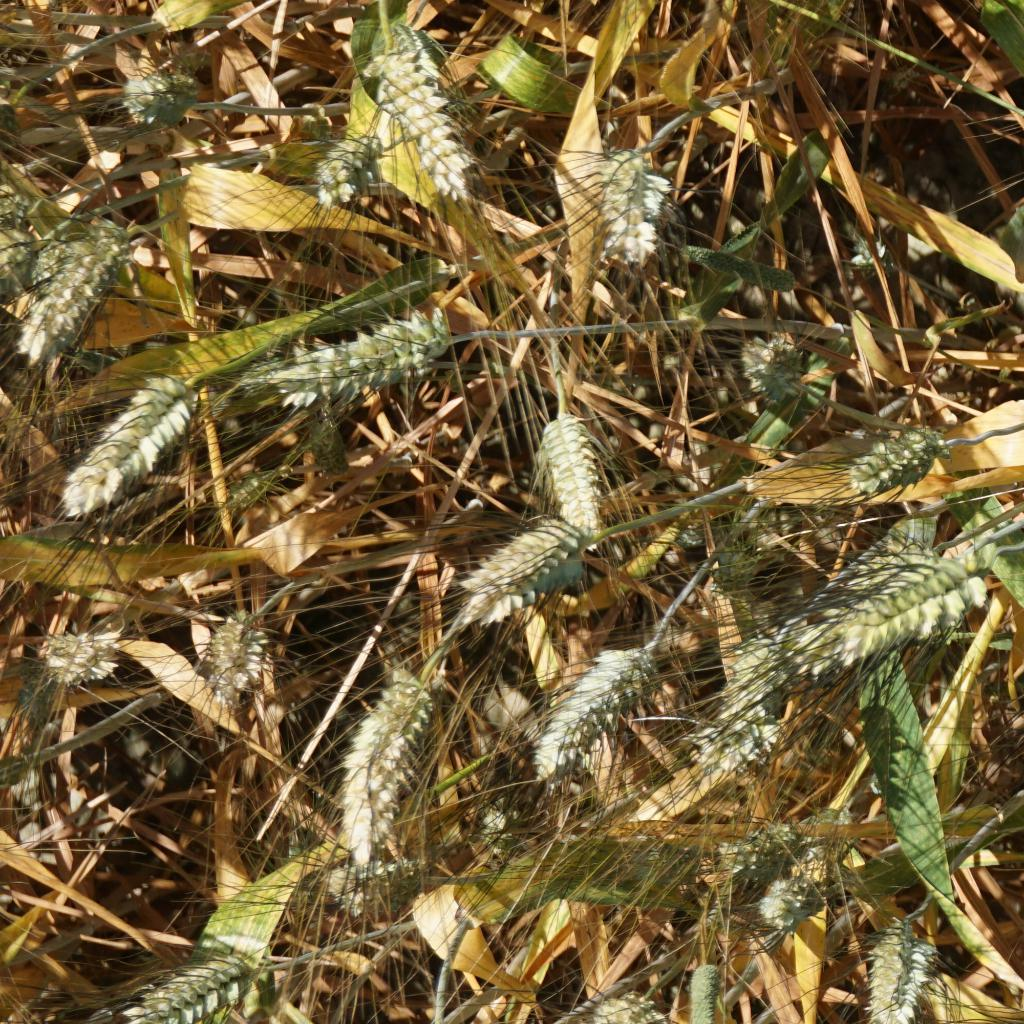0-0: (368, 17, 479, 205), (61, 366, 195, 514), (529, 636, 657, 786), (321, 673, 434, 837), (822, 550, 979, 665), (264, 316, 457, 392), (470, 523, 589, 627), (116, 946, 270, 1024), (704, 635, 798, 750), (532, 407, 605, 528), (38, 236, 104, 361), (592, 154, 672, 256), (849, 421, 963, 492), (468, 750, 541, 860), (858, 927, 934, 1021), (200, 611, 272, 696), (722, 813, 799, 892), (109, 62, 202, 126), (327, 852, 431, 908), (41, 617, 122, 683), (734, 324, 802, 396), (311, 125, 366, 207), (705, 546, 785, 600), (841, 540, 929, 588), (754, 872, 814, 931), (848, 229, 907, 281), (304, 418, 355, 478), (593, 985, 671, 1024), (12, 674, 72, 724), (220, 467, 276, 516), (663, 517, 719, 560), (0, 229, 40, 278), (1008, 0, 1024, 19)
